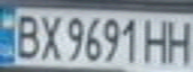1: (118, 15, 142, 63)
6: (81, 14, 106, 63)
9: (60, 12, 84, 62), (100, 15, 124, 63)
B: (9, 10, 42, 61)
H: (163, 16, 193, 66), (142, 16, 172, 65)
X: (36, 11, 63, 61)
